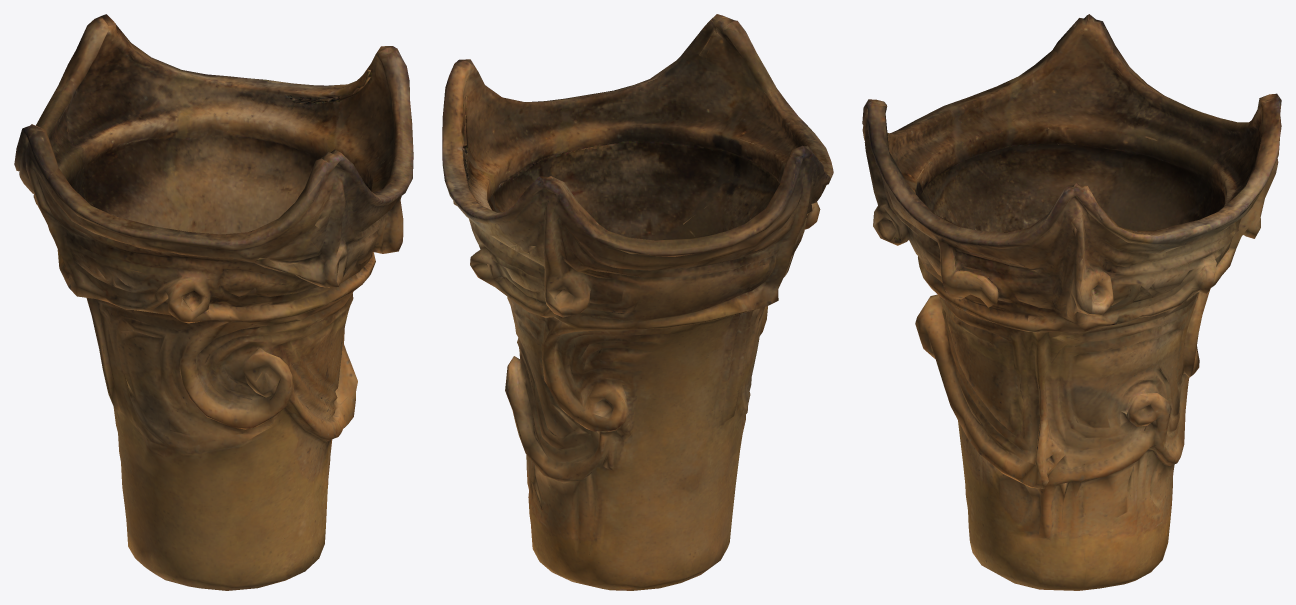
3 renders of one model, left to right at view 1: azimuth 30°, elevation 25°; view 2: azimuth 150°, elevation 25°; view 3: azimuth 270°, elevation 25°, orthographic. The views are drawn at different scales.
Parts seen in each view (by area): view 1: SK0013_low; view 2: SK0013_low; view 3: SK0013_low.
Part boxes in pixels (x1,y1,x2,y2): SK0013_low: (14,14,413,590); SK0013_low: (442,14,833,590); SK0013_low: (862,14,1281,590).
Bounding box in the file's own units: 238 × 293 × 242.
Materials: 1 (1 with a texture image).
